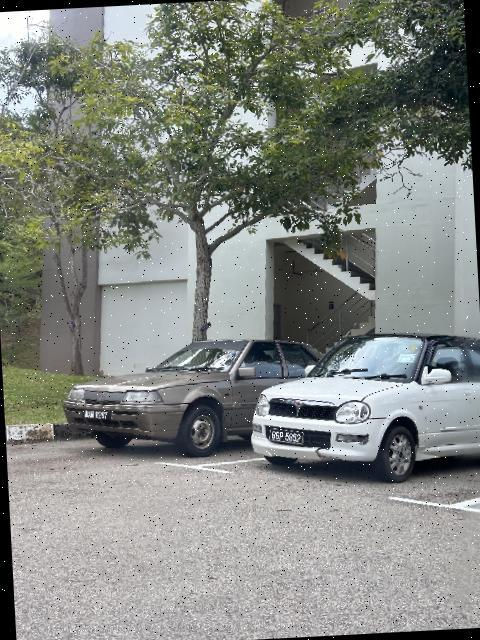AJM8257: (81, 406, 115, 427)
GSP5652: (268, 426, 306, 451)
License_Plate: (268, 426, 306, 451), (81, 406, 115, 427)
car: (240, 321, 480, 488), (60, 321, 324, 460)
